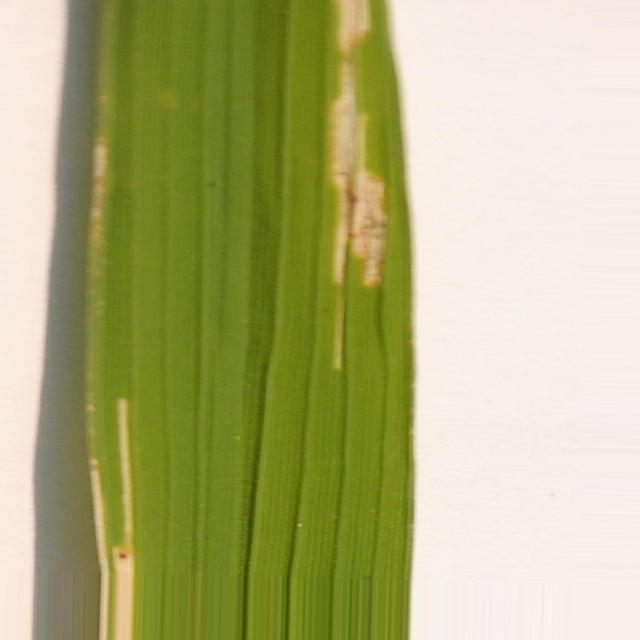Brown_Spot: (315, 0, 411, 382)
